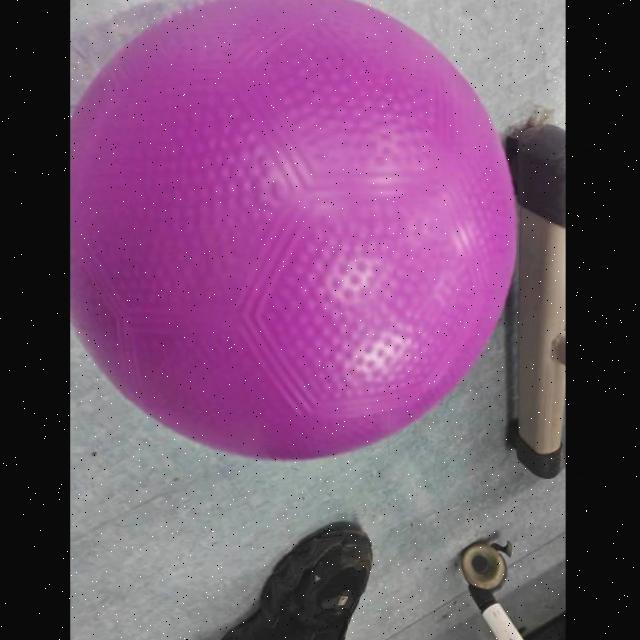P: (70, 1, 526, 463)
